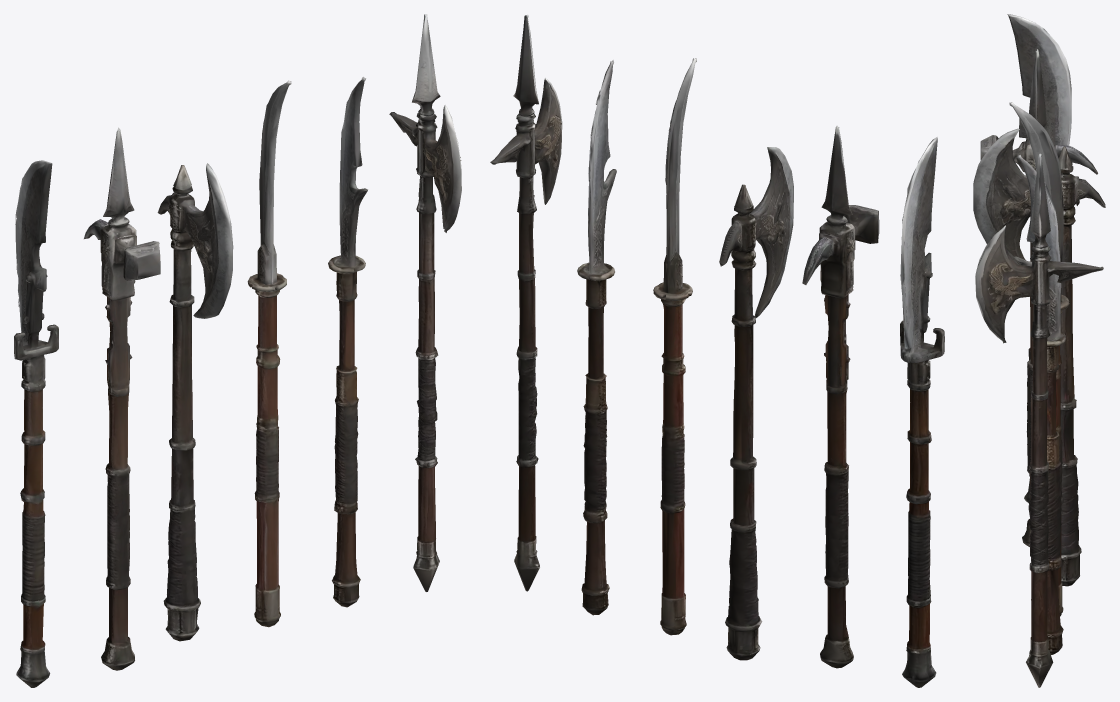
File: weapons_polearms.glb
The picture shows the model from 3 angles, left to right: view 1: azimuth 30°, elevation 25°; view 2: azimuth 150°, elevation 25°; view 3: azimuth 270°, elevation 25°; orthographic projection. The views are drawn at different scales.
Parts seen in each view (by area): view 1: polearm_bardiche, polearm_poleaxe, polearm_voulge, polearm_halberd, polearm_naginata, polearm_glaive; view 2: polearm_bardiche, polearm_poleaxe, polearm_voulge, polearm_halberd, polearm_naginata, polearm_glaive; view 3: polearm_halberd, polearm_bardiche, polearm_glaive, polearm_voulge, polearm_naginata, polearm_poleaxe.
Part boxes in pixels (<box>): polearm_bardiche: <box>157,163,233,641</box>; polearm_poleaxe: <box>84,127,160,670</box>; polearm_voulge: <box>14,160,58,687</box>; polearm_halberd: <box>389,14,461,591</box>; polearm_naginata: <box>247,80,291,627</box>; polearm_glaive: <box>328,77,367,607</box>; polearm_bardiche: <box>719,147,793,660</box>; polearm_poleaxe: <box>802,125,879,668</box>; polearm_voulge: <box>900,137,944,687</box>; polearm_halberd: <box>490,14,562,591</box>; polearm_naginata: <box>653,58,696,635</box>; polearm_glaive: <box>577,60,616,615</box>; polearm_halberd: <box>975,153,1103,687</box>; polearm_bardiche: <box>973,128,1105,586</box>; polearm_glaive: <box>1013,154,1065,654</box>; polearm_voulge: <box>1007,14,1071,503</box>; polearm_naginata: <box>1009,102,1069,616</box>; polearm_poleaxe: <box>980,49,1097,546</box>.
Size of the model in its own units: 0.5767 by 0.744 by 0.1673.
Materials: 1 (1 with a texture image).
